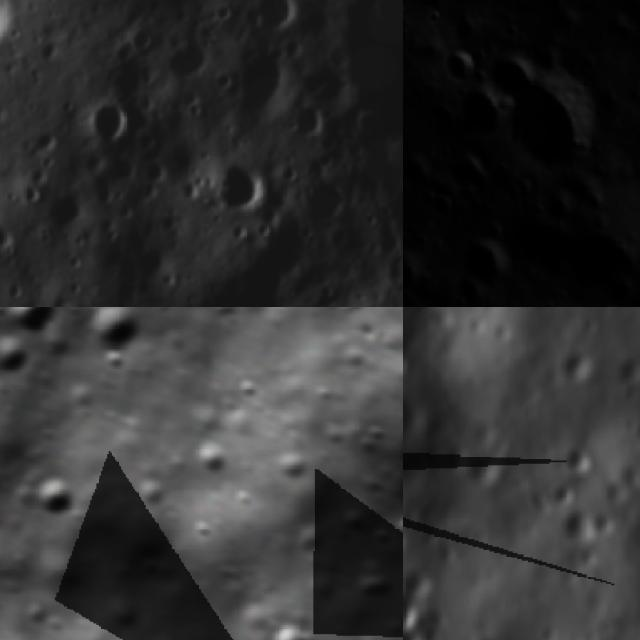crater: (494, 63, 618, 194), (484, 190, 598, 303), (557, 208, 640, 307), (453, 215, 521, 299), (11, 464, 82, 534), (76, 307, 154, 369), (475, 42, 543, 108), (448, 81, 514, 149), (236, 41, 301, 107), (210, 160, 271, 219), (554, 165, 614, 222), (440, 142, 495, 203), (0, 307, 69, 351), (41, 183, 99, 235), (0, 324, 41, 393), (164, 28, 216, 82), (299, 175, 351, 226), (436, 41, 486, 92), (520, 33, 568, 84), (255, 607, 326, 640), (88, 92, 129, 146), (403, 239, 436, 300), (403, 142, 441, 193), (419, 182, 461, 225), (291, 102, 332, 145), (248, 0, 299, 33), (136, 151, 173, 187), (568, 514, 607, 546), (432, 0, 501, 18), (104, 152, 138, 184), (53, 307, 125, 322), (560, 454, 601, 476), (0, 219, 22, 253), (403, 600, 427, 629), (626, 50, 640, 95), (555, 485, 573, 507), (403, 355, 415, 382)
